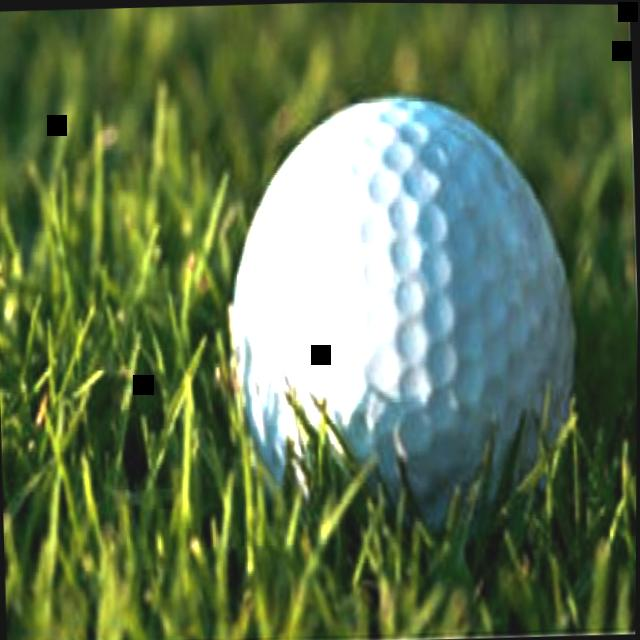golf ball: (211, 70, 597, 545)
